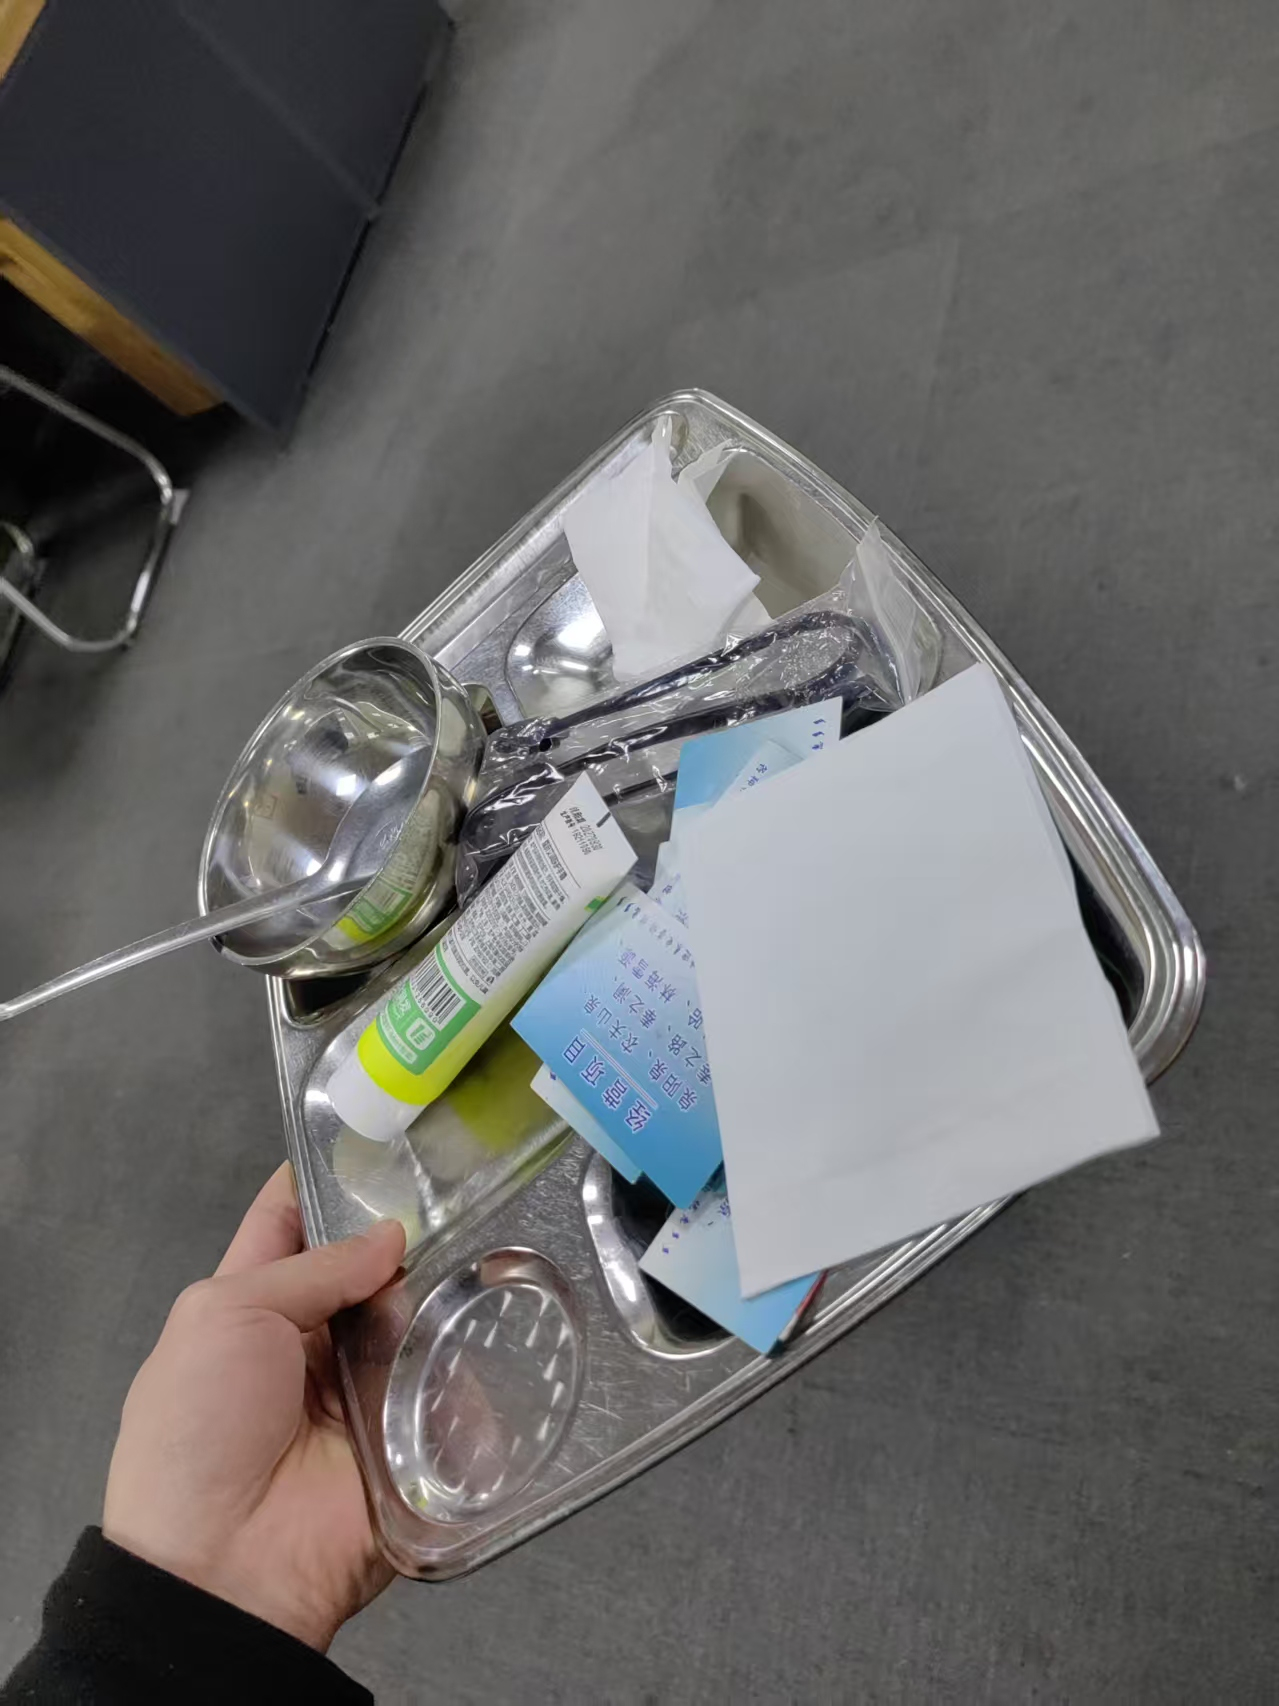moderate: (321, 585, 844, 1357)
plate: (249, 385, 1211, 1585)
tissue: (675, 662, 1167, 1298), (557, 411, 785, 688)
